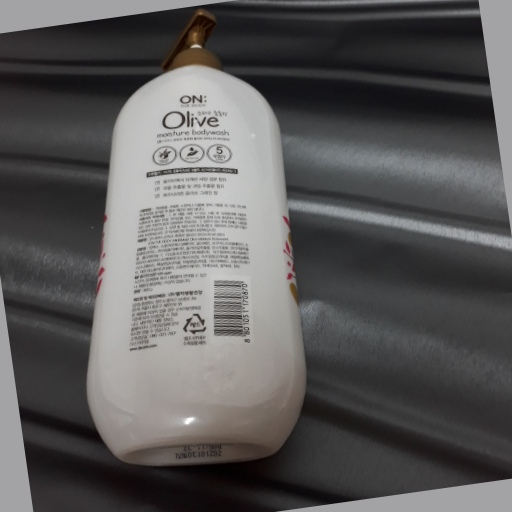Plastic_3: (83, 7, 306, 468)
